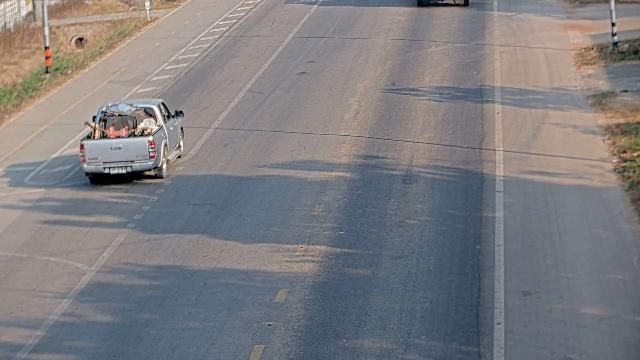pickup-truck: (78, 97, 185, 182)
